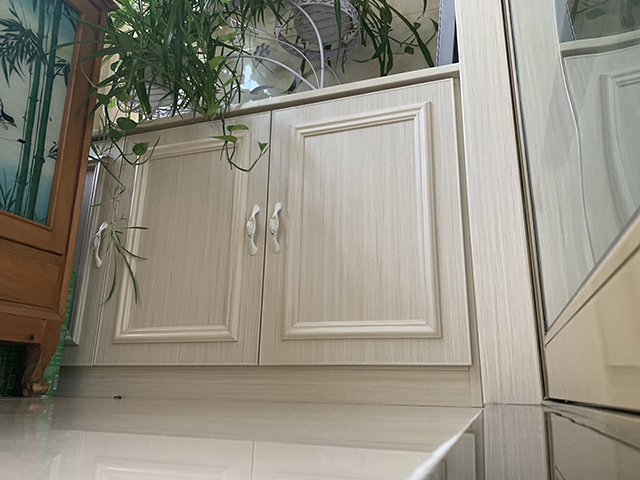cabinet: (54, 60, 482, 408)
